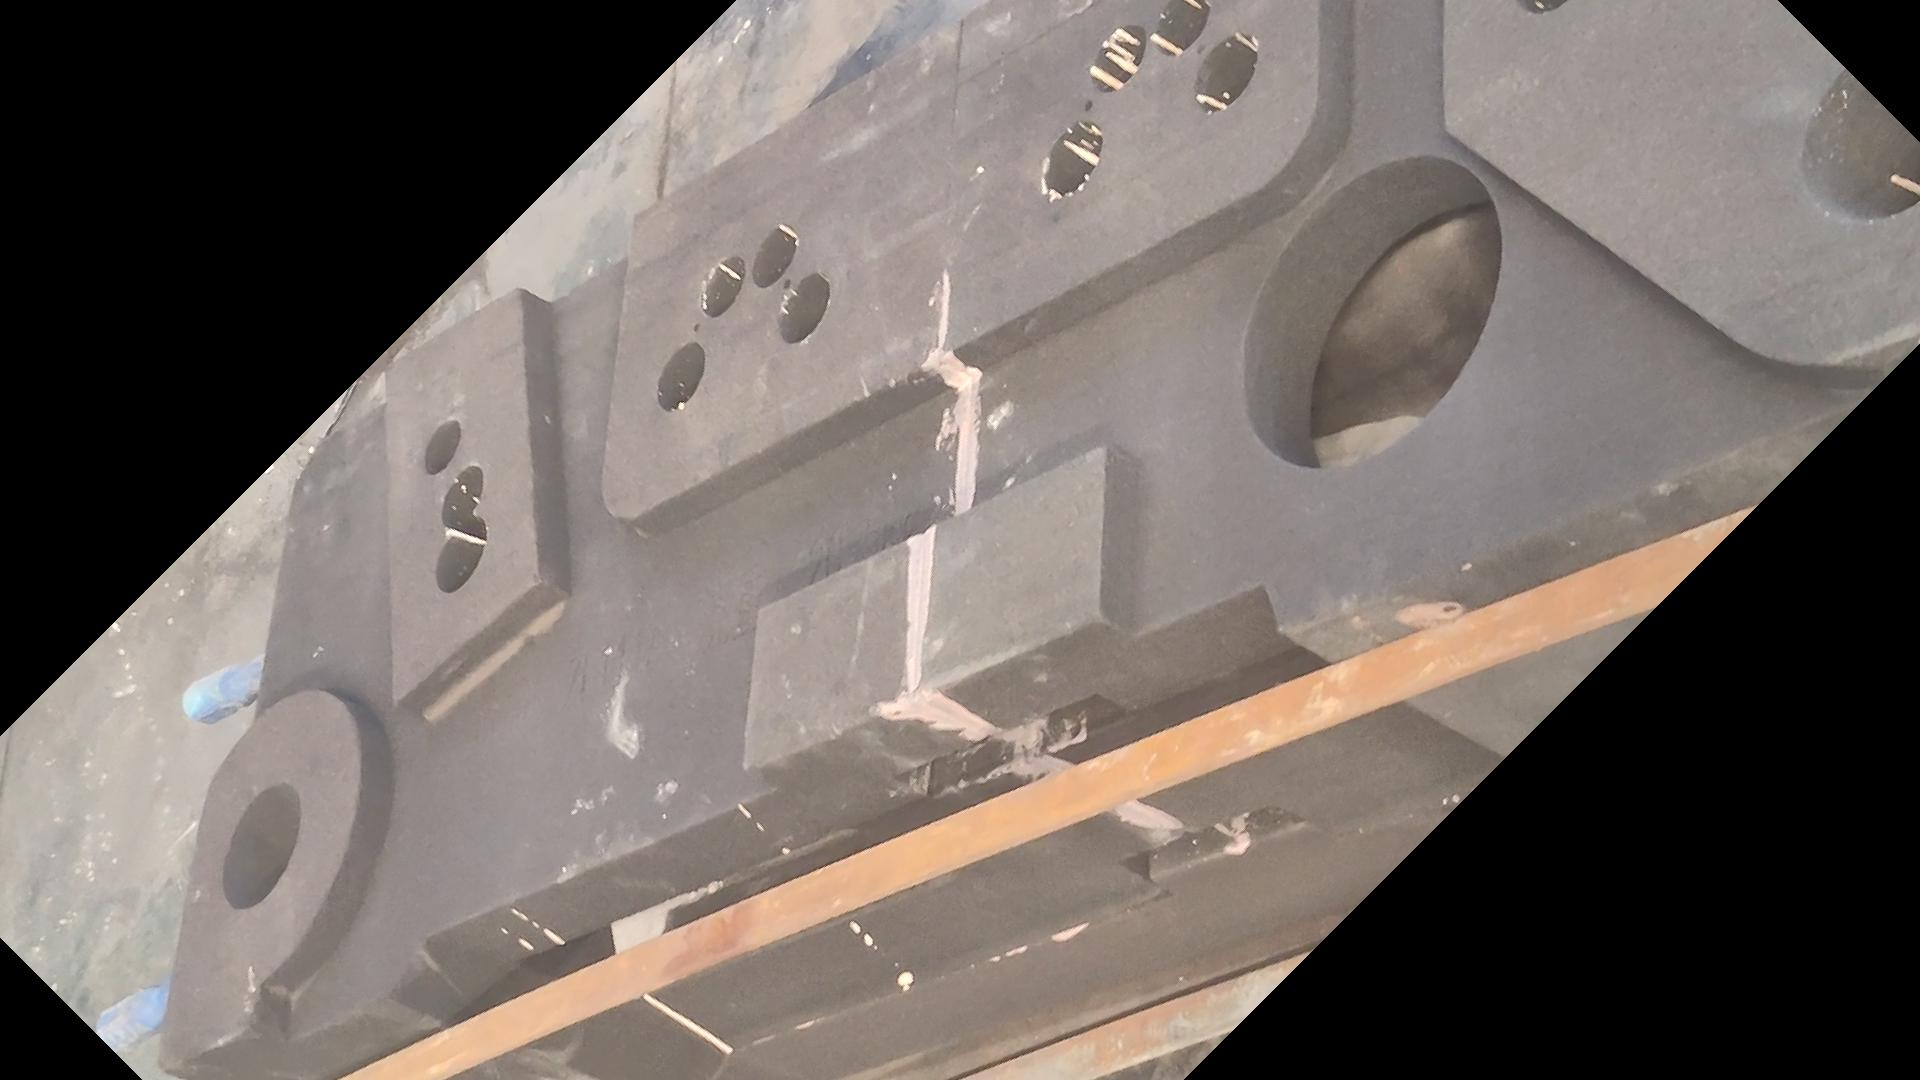pouring hole: (1797, 67, 1920, 222), (220, 782, 302, 911)
